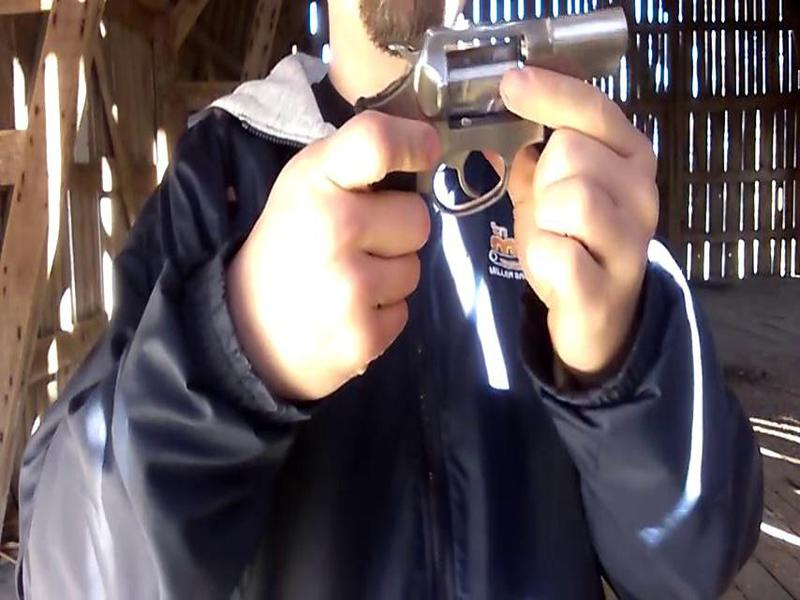Revolver: (323, 12, 653, 240)
